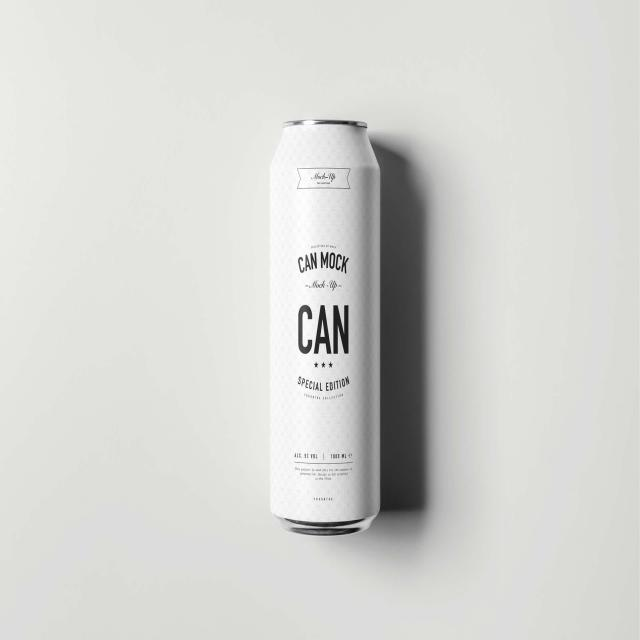metal: (270, 120, 380, 534)
